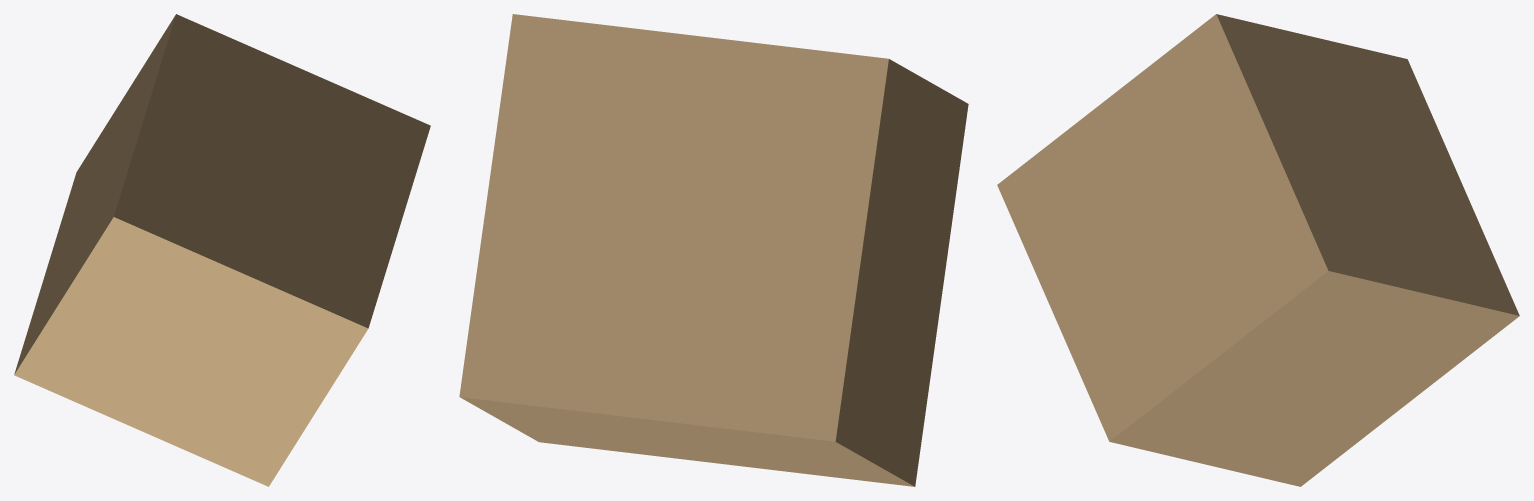
The model's file is imda-pdd.glb.
The picture shows the model from 3 angles, left to right: view 1: azimuth 30°, elevation 25°; view 2: azimuth 150°, elevation 25°; view 3: azimuth 270°, elevation 25°; orthographic projection. The views are drawn at different scales.
Size of the model in its own units: 2.91 by 2.87 by 3.35.
